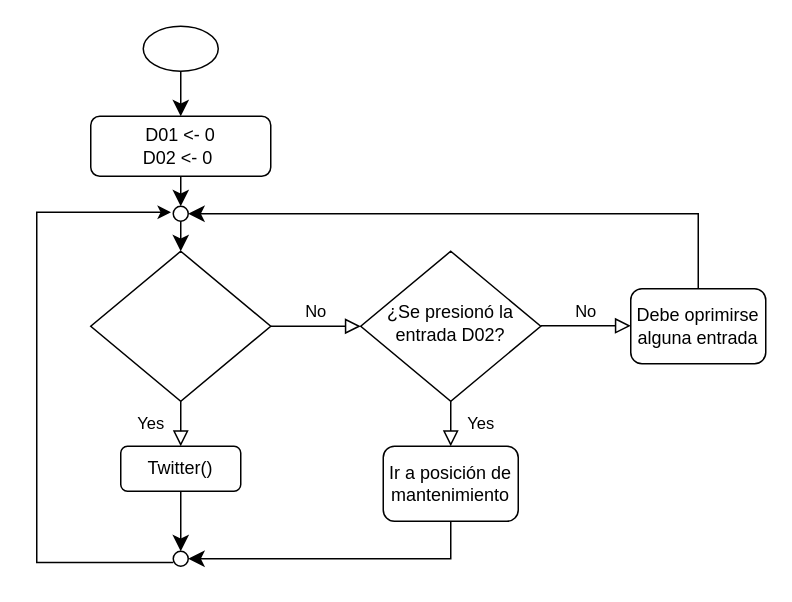
The diagram is 792 pixels wide and 602 high, and some of its shapes have lost their labels. The centre of each missing label's shape, as x and y in pixels:
"Inicio" belongs at (x=180, y=48).
"¿Se presionó la entrada D01?" belongs at (x=180, y=325).
